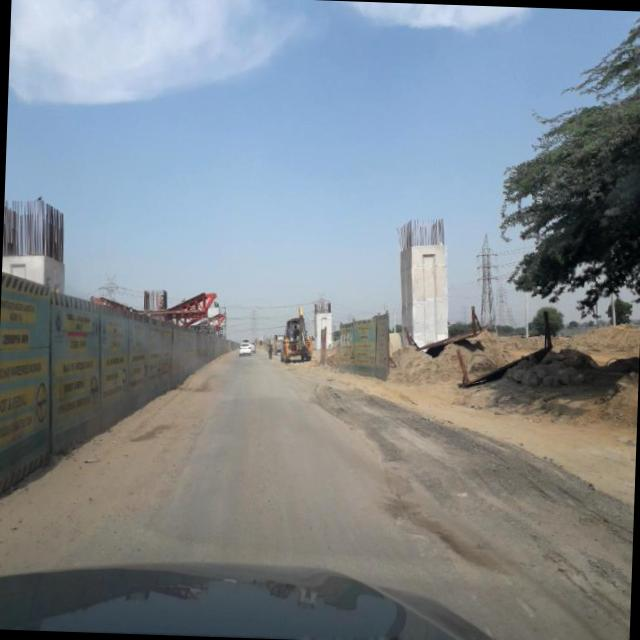pothole: (512, 588, 544, 622)
